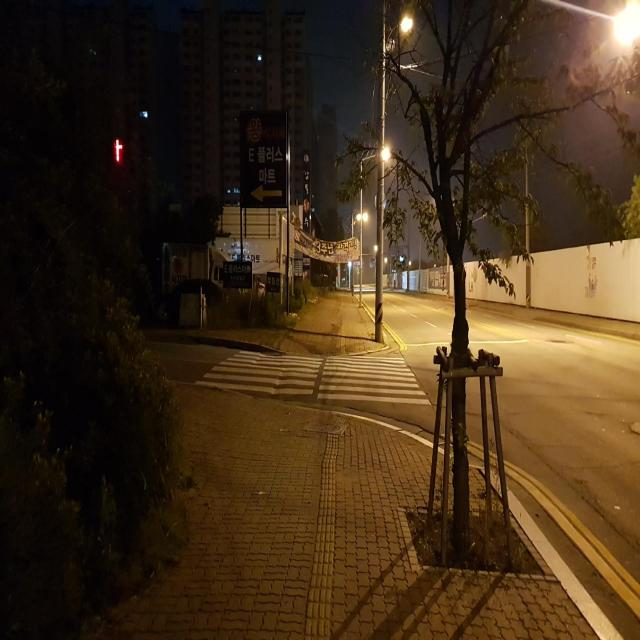횡단보도: (193, 349, 432, 406)
